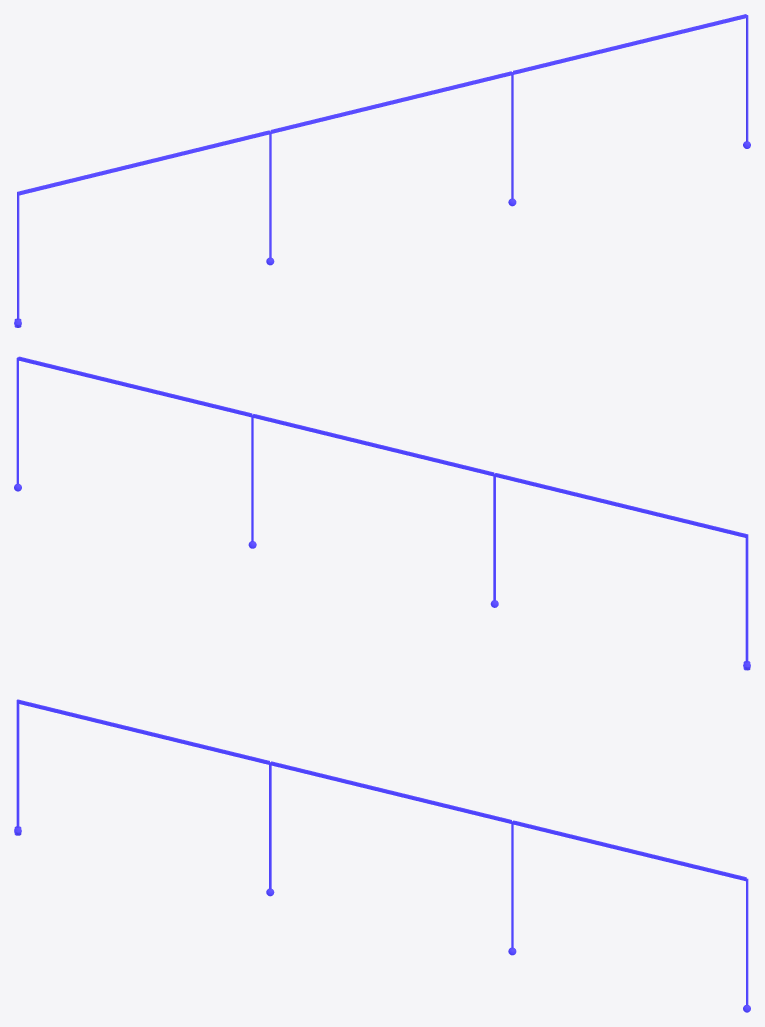
File: SegnSocial5.gltf
The picture shows the model from 3 angles, top to bottom: view 1: azimuth 30°, elevation 25°; view 2: azimuth 150°, elevation 25°; view 3: azimuth 330°, elevation 25°; orthographic projection.
Visible parts, largest first — view 1: ListnerModuli.013; view 2: ListnerModuli.013; view 3: ListnerModuli.013.
Boxes of the visible parts, x1,y1,x2,y2 form: ListnerModuli.013: [14, 14, 750, 327]; ListnerModuli.013: [14, 356, 750, 670]; ListnerModuli.013: [14, 699, 750, 1012].
Size of the model in its own units: 4.49 by 0.7841 by 0.0421.
